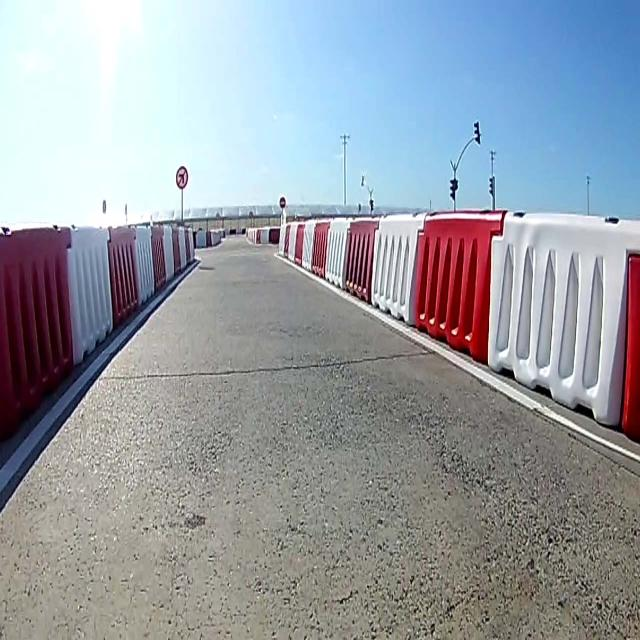soladonulmez: (176, 165, 188, 188)
